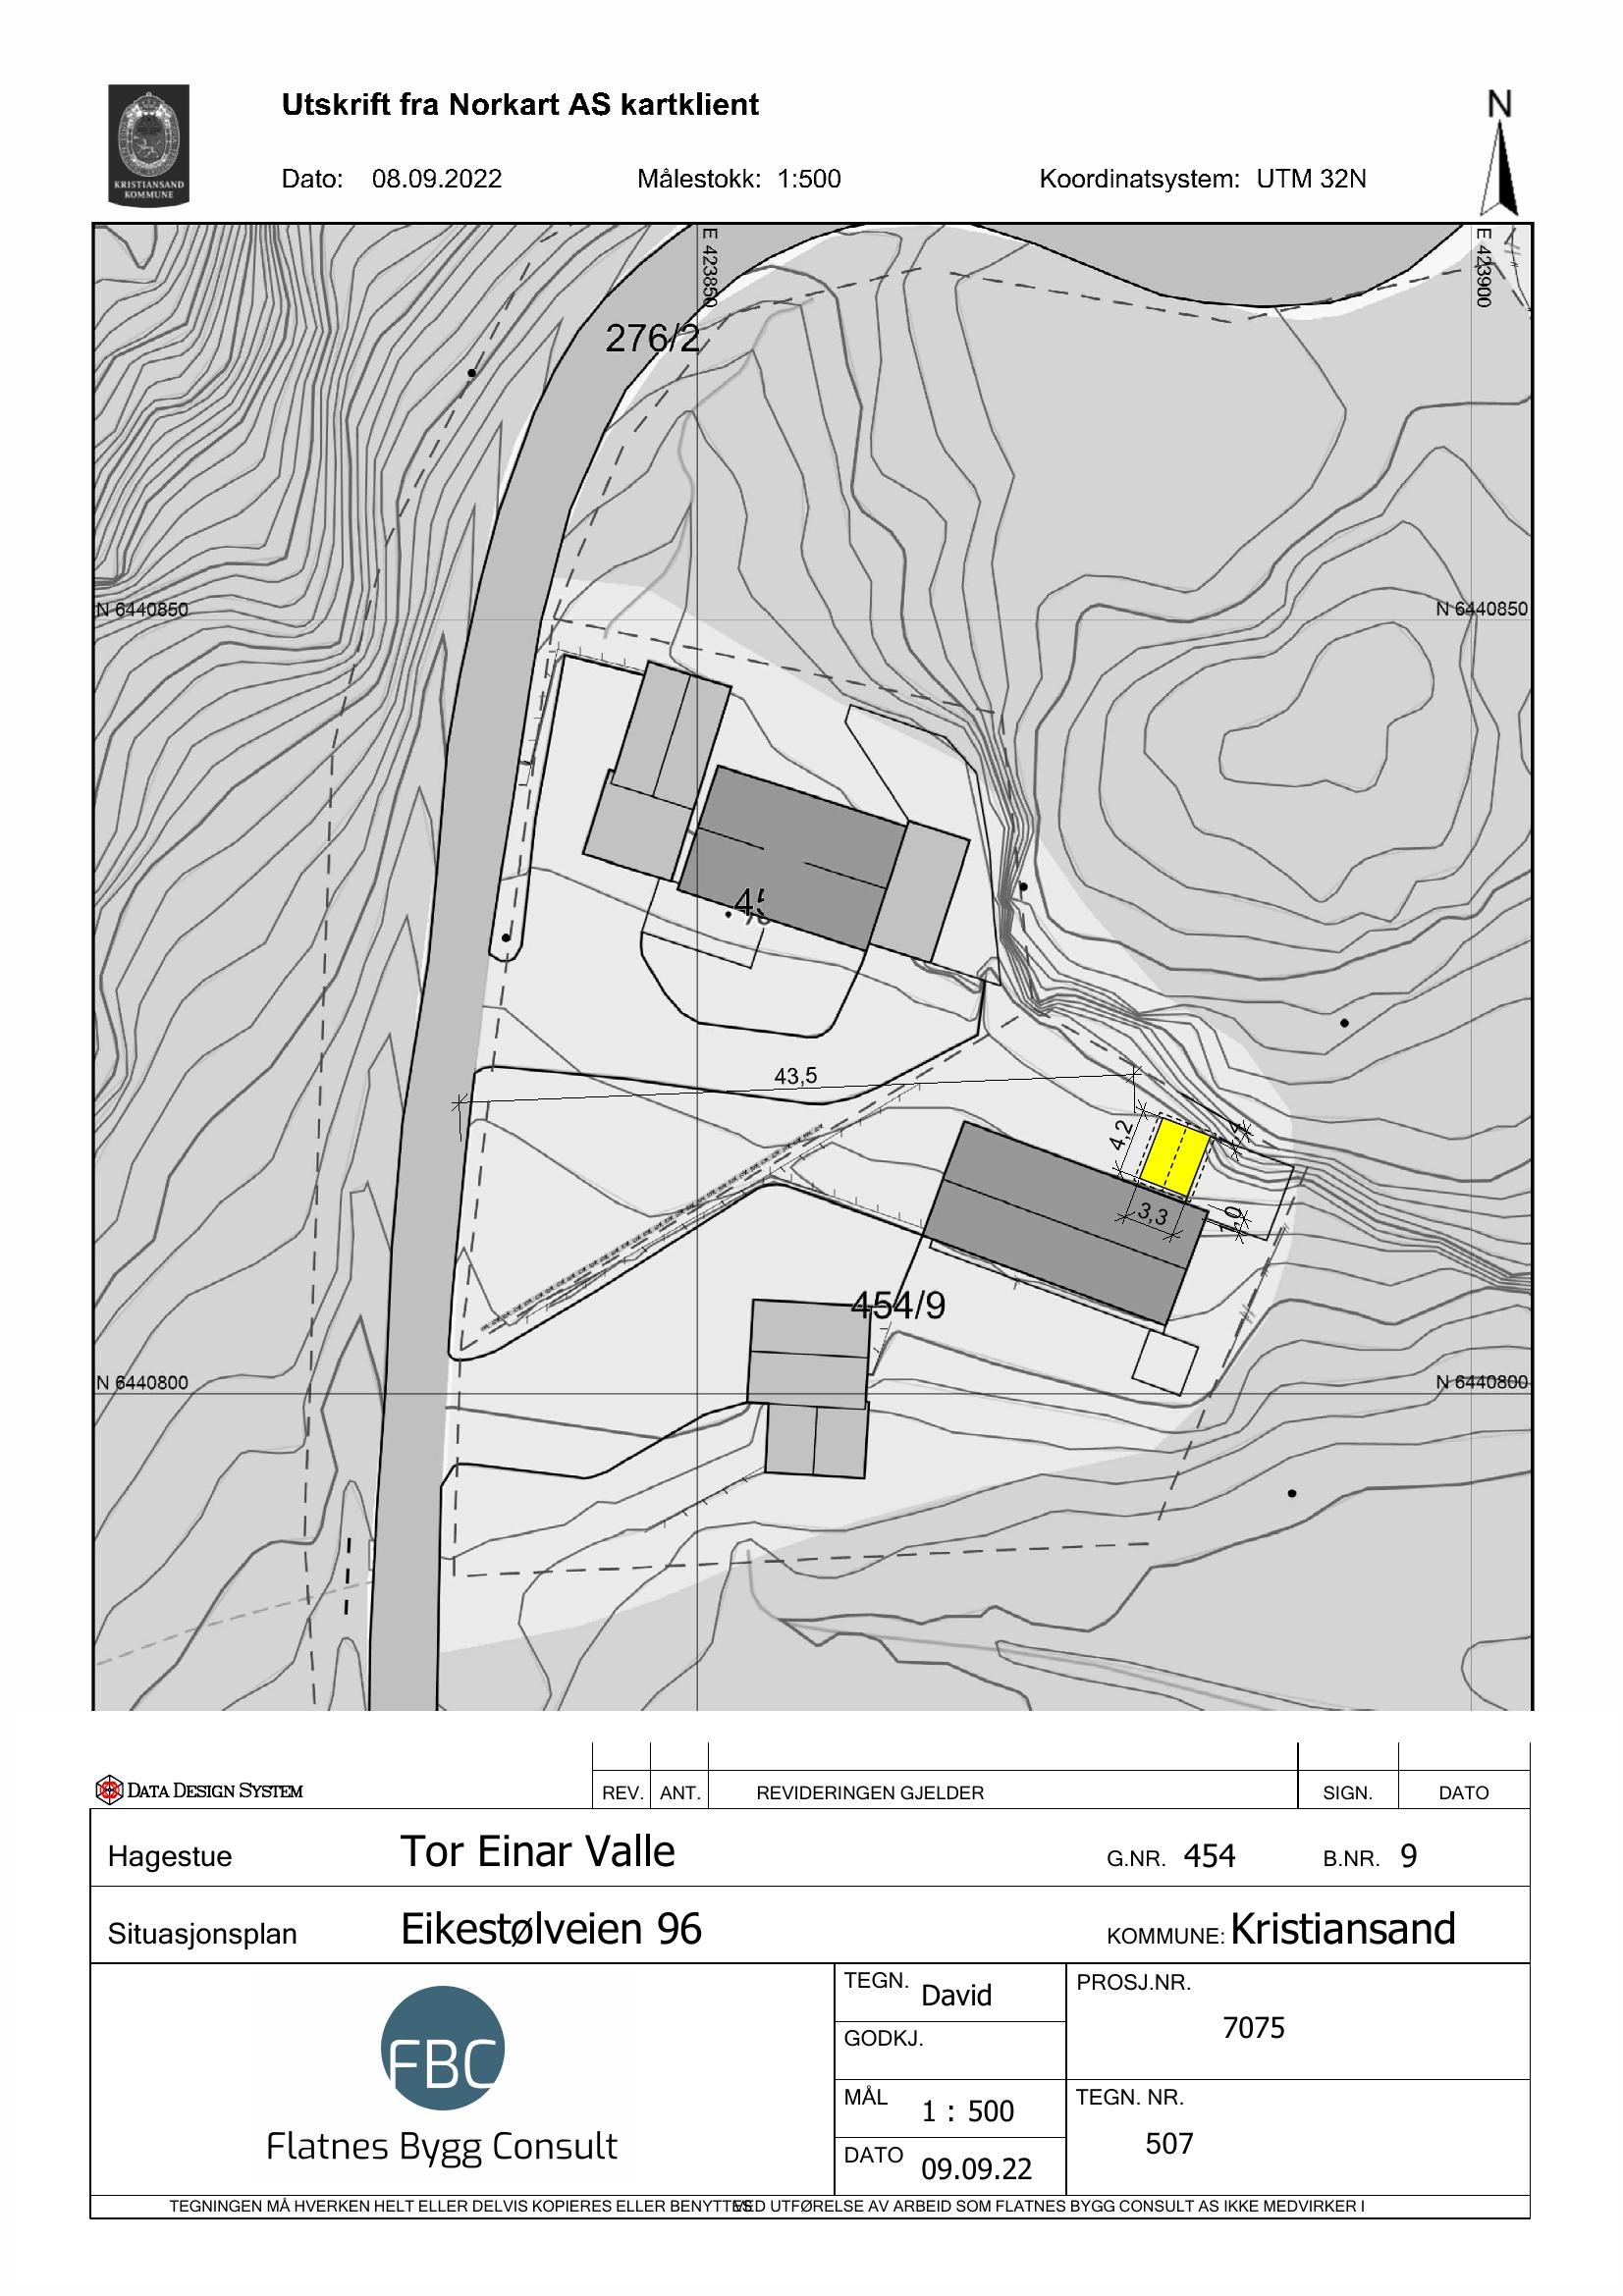situasjonskart: (97, 237, 1526, 1697)
